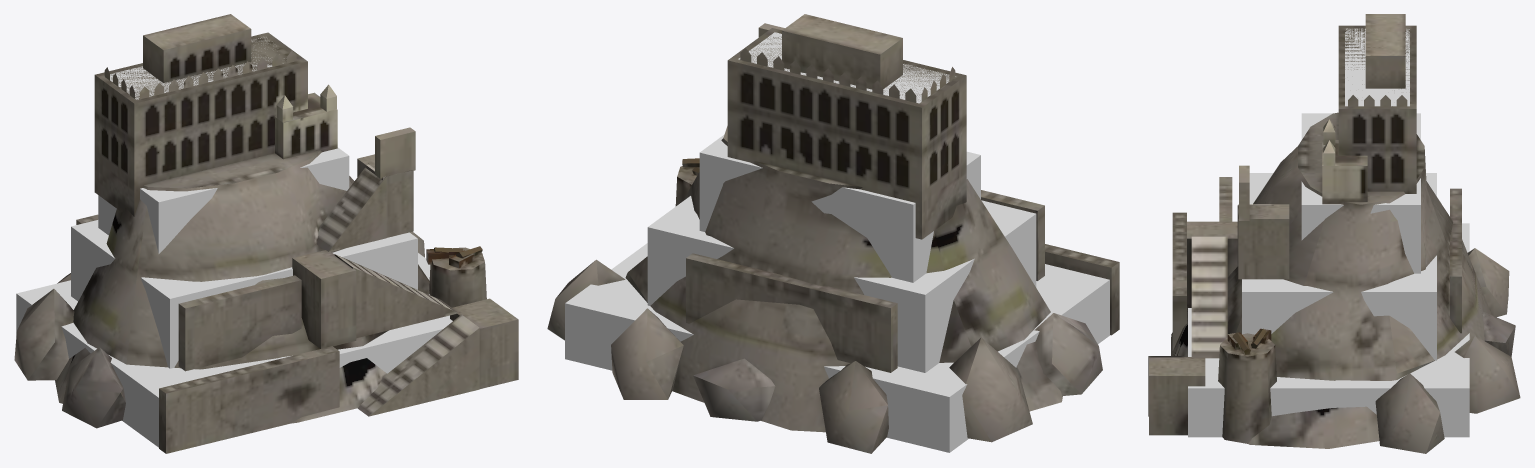
The model's file is golconda_bala_hissar.glb.
The picture shows the model from 3 angles, left to right: view 1: azimuth 30°, elevation 25°; view 2: azimuth 150°, elevation 25°; view 3: azimuth 270°, elevation 25°; orthographic projection. The views are drawn at different scales.
Visible parts, largest first — view 1: golconda_bala_hissar_body, COL_bh_hill1, COL_bh_hill0, COL_bh_hill2, COL_bh_hall; view 2: golconda_bala_hissar_body, COL_bh_hill0, COL_bh_hill1, COL_bh_hill2, COL_bh_hall; view 3: golconda_bala_hissar_body, COL_bh_hill0, COL_bh_hill1, COL_bh_hill2, COL_bh_hall.
Part boxes in pixels (bbox=[...]): golconda_bala_hissar_body: bbox=[14, 14, 518, 453]; COL_bh_hill1: bbox=[71, 220, 417, 368]; COL_bh_hill0: bbox=[16, 253, 452, 447]; COL_bh_hill2: bbox=[98, 147, 349, 253]; COL_bh_hall: bbox=[110, 37, 284, 99]; golconda_bala_hissar_body: bbox=[547, 14, 1119, 453]; COL_bh_hill0: bbox=[565, 243, 1109, 452]; COL_bh_hill1: bbox=[647, 196, 1036, 372]; COL_bh_hill2: bbox=[699, 134, 980, 282]; COL_bh_hall: bbox=[738, 32, 955, 103]; golconda_bala_hissar_body: bbox=[1148, 14, 1520, 453]; COL_bh_hill0: bbox=[1188, 223, 1469, 437]; COL_bh_hill1: bbox=[1242, 173, 1436, 360]; COL_bh_hill2: bbox=[1301, 113, 1420, 273]; COL_bh_hall: bbox=[1345, 28, 1409, 106].
Bounding box in the file's own units: 87.74 × 61.9 × 68.7.
1 material, 1 textured.
